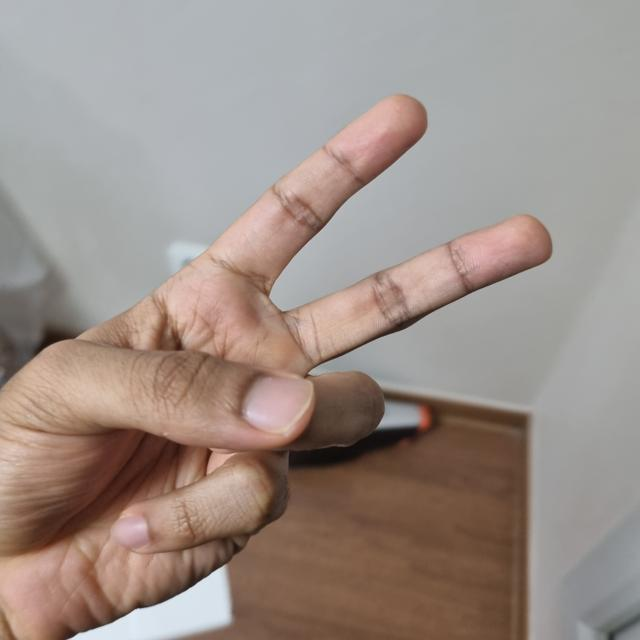Scissors: (0, 98, 542, 639)
